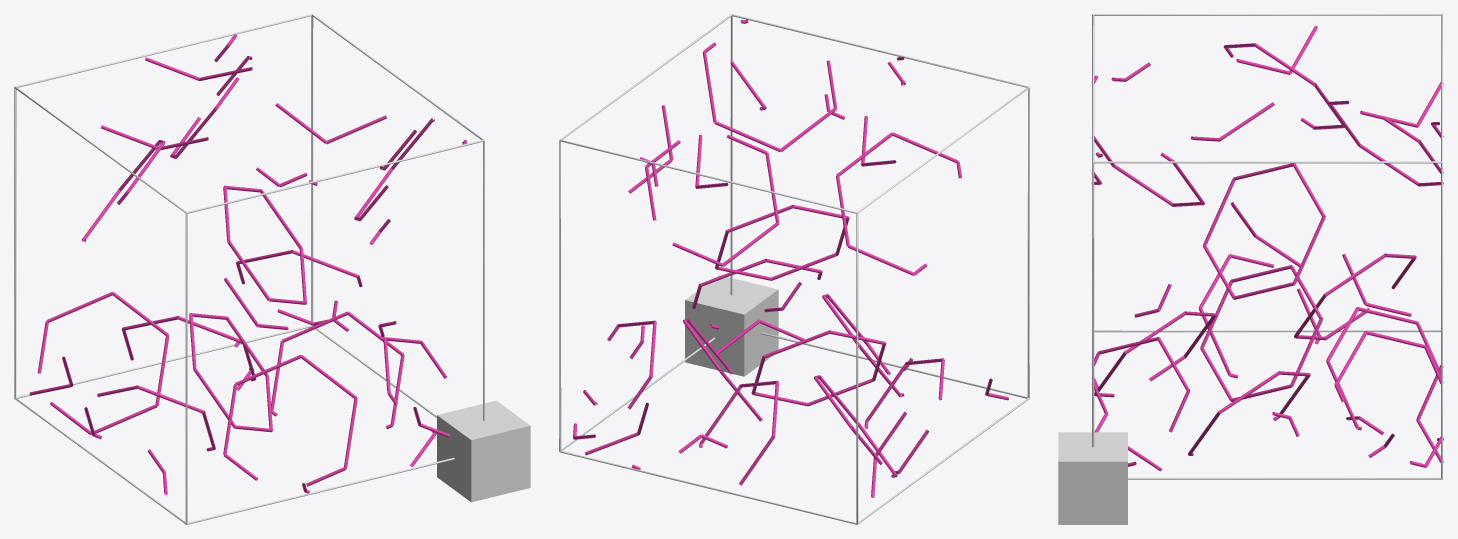
Rendered from ddd000glb.glb.
The picture shows the model from 3 angles, left to right: view 1: azimuth 30°, elevation 25°; view 2: azimuth 150°, elevation 25°; view 3: azimuth 270°, elevation 25°; orthographic projection.
Parts seen in each view (by area): view 1: Shape_IndexedLineSet.001, Shape_IndexedLineSet, Cube; view 2: Shape_IndexedLineSet.001, Shape_IndexedLineSet, Cube; view 3: Shape_IndexedLineSet.001, Cube, Shape_IndexedLineSet.
Part boxes in pixels (box(x1,y1,x2,y2)): Shape_IndexedLineSet.001: box(29, 34, 466, 494); Shape_IndexedLineSet: box(14, 14, 484, 524); Cube: box(437, 400, 530, 502); Shape_IndexedLineSet.001: box(573, 19, 1008, 497); Shape_IndexedLineSet: box(559, 14, 1029, 524); Cube: box(685, 275, 778, 376); Shape_IndexedLineSet.001: box(1091, 26, 1443, 471); Cube: box(1058, 432, 1127, 524); Shape_IndexedLineSet: box(1092, 14, 1442, 479).
Size of the model in its own units: 11.05 by 11.05 by 11.05.
